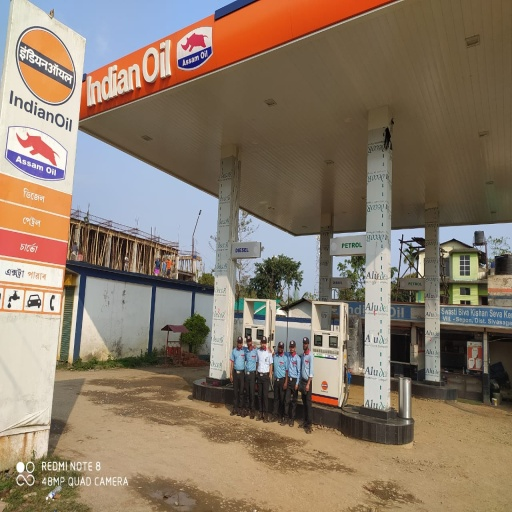roof: (75, 1, 511, 236)
